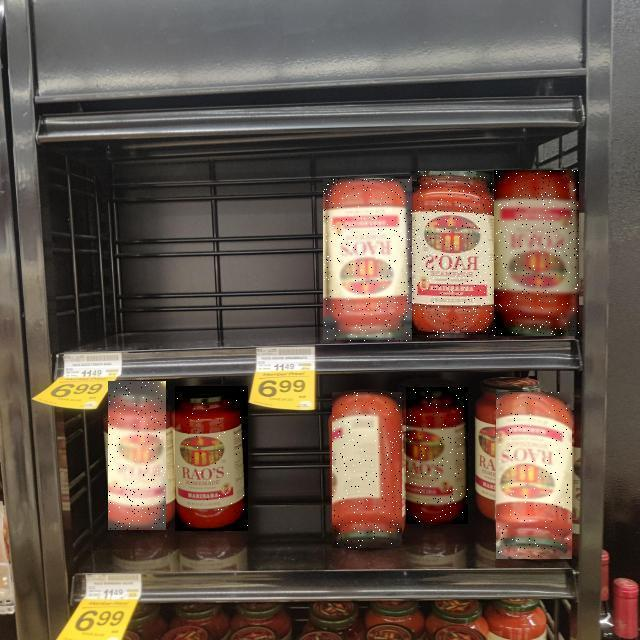Sauce: (323, 180, 412, 342), (494, 171, 579, 337), (410, 172, 494, 338), (497, 392, 573, 559), (333, 392, 403, 548), (175, 386, 248, 531), (108, 382, 166, 532), (406, 387, 468, 524)
